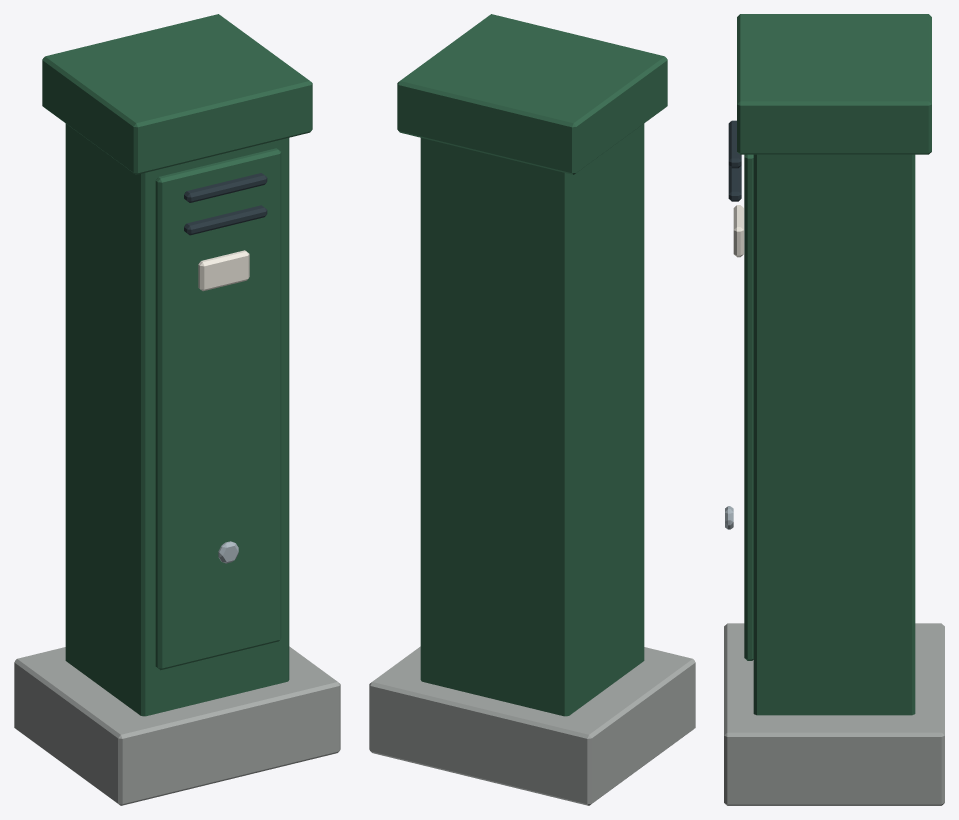
The model's file is b05_telephone_distribution_pedestal.glb.
3 views of the same model, side by side, from view 1: azimuth 30°, elevation 25°; view 2: azimuth 150°, elevation 25°; view 3: azimuth 270°, elevation 25° (orthographic). The views are drawn at different scales.
Parts seen in each view (by area): view 1: b05_telephone_distribution_pedestal; view 2: b05_telephone_distribution_pedestal; view 3: b05_telephone_distribution_pedestal.
Part boxes in pixels (x1,y1,x2,y2): b05_telephone_distribution_pedestal: (14,14,340,805); b05_telephone_distribution_pedestal: (369,14,695,805); b05_telephone_distribution_pedestal: (724,14,944,805).
Size of the model in its own units: 0.36 by 1.04 by 0.3.
